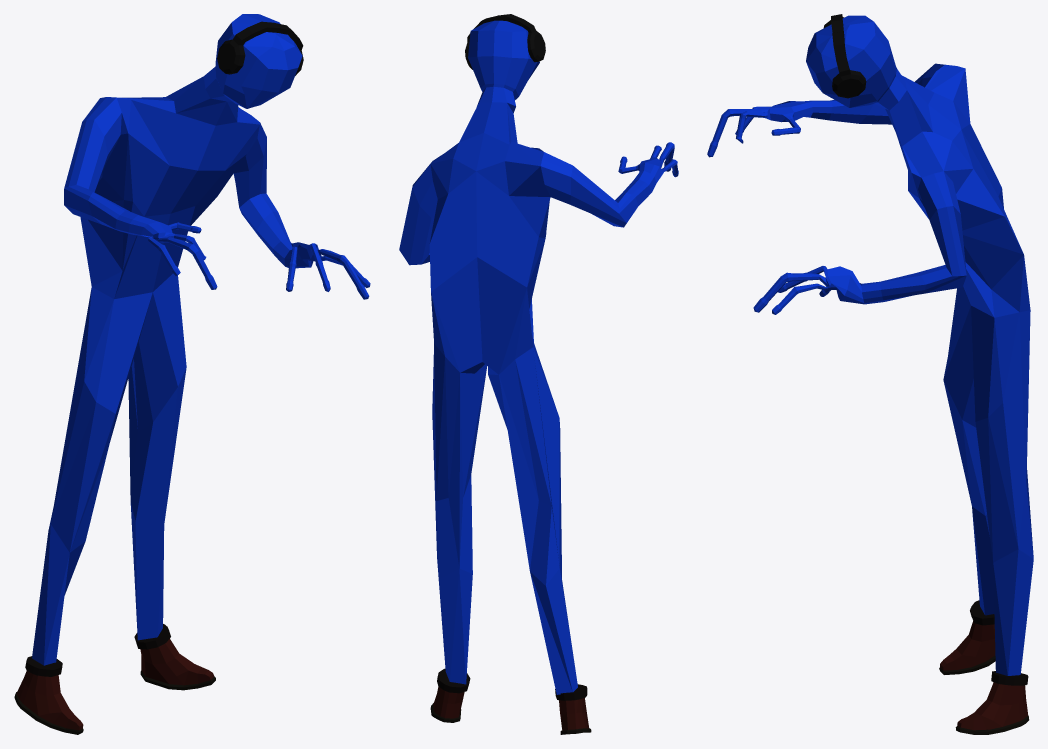
Rendered from dj_anim_p1_f1.obj.
3 views of the same model, side by side, from view 1: azimuth 30°, elevation 25°; view 2: azimuth 150°, elevation 25°; view 3: azimuth 270°, elevation 25° (orthographic). The views are drawn at different scales.
Visible parts, largest first — view 1: dj_alien, Shoe, Headphones; view 2: dj_alien, Shoe, Headphones; view 3: dj_alien, Shoe, Headphones.
Part boxes in pixels (box(x1,y1,x2,y2)): dj_alien: box(32, 14, 370, 665); Shoe: box(14, 624, 215, 734); Headphones: box(217, 21, 303, 75); dj_alien: box(399, 20, 678, 694); Shoe: box(430, 668, 591, 734); Headphones: box(465, 14, 545, 69); dj_alien: box(707, 15, 1033, 675); Shoe: box(939, 600, 1029, 734); Headphones: box(823, 14, 866, 98).
Bounding box in the file's own units: 0.7432 × 2.1 × 0.8652.
